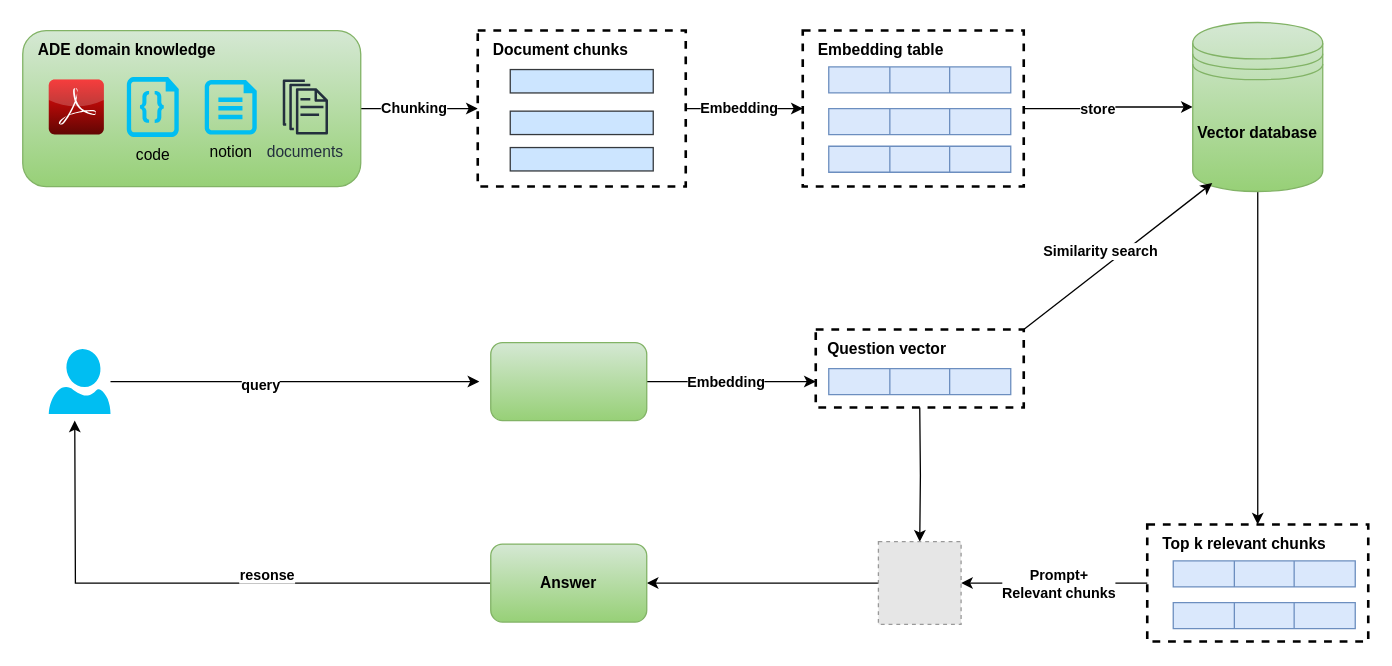
Image size: 1392x666. Some labels were removed from this diagram. Grey dashed boxes stand in for pictures. Here are the shapes that lost their labels. From the top down, the centre of each, then its label:
the point at 75,106: pdf
the point at 568,381: Question
